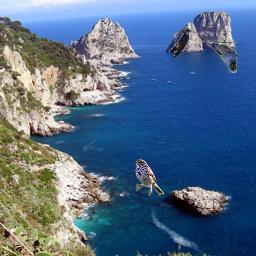Sparrow: (134, 159, 164, 196)
Swallow: (201, 33, 237, 73), (162, 29, 191, 60)
